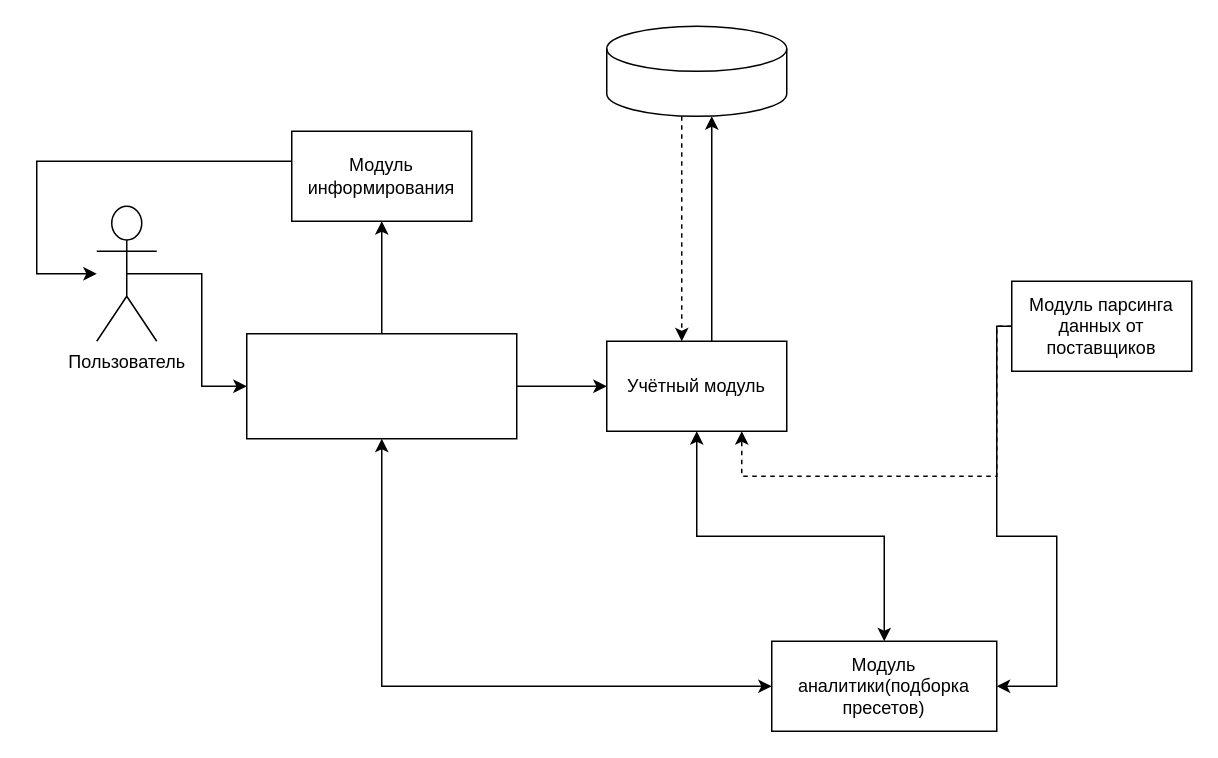
This 1218x758 diagram has some shape labels left out. The shapes that lost their labels are listed below. From the top down, each one's centre as x and y in pixels, then its label:
point (696, 70): БД
point (381, 385): Формирование заявки от пользователя
